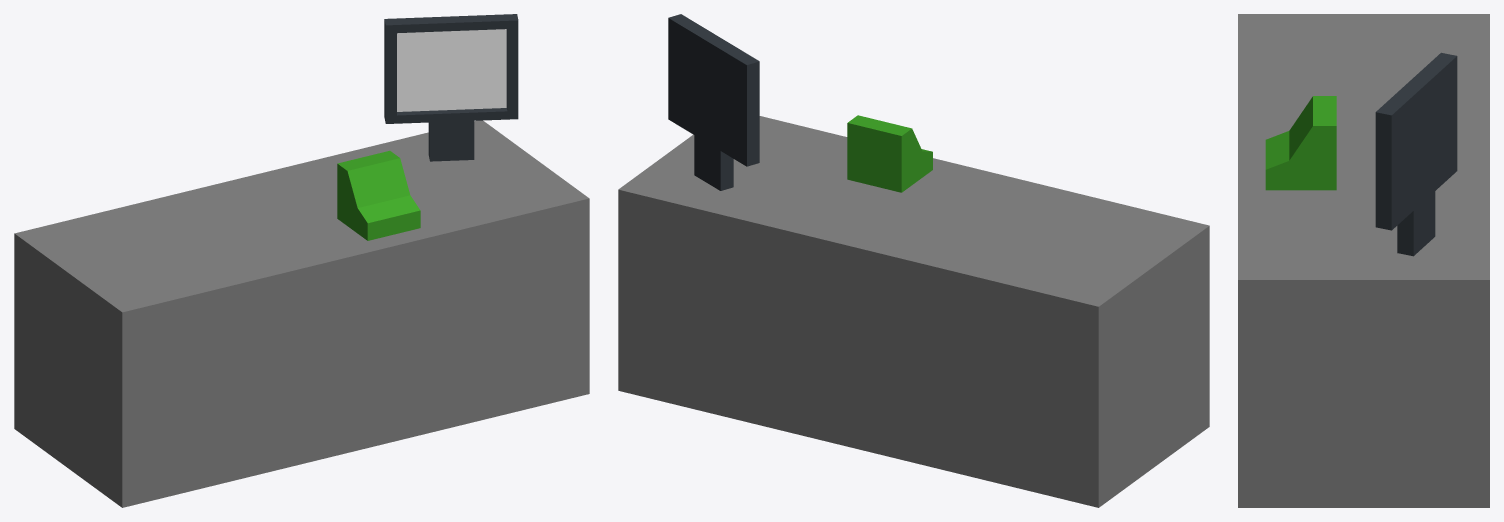
File: cashiertable.fbx
3 views of the same model, side by side, from view 1: azimuth 30°, elevation 25°; view 2: azimuth 150°, elevation 25°; view 3: azimuth 270°, elevation 25° (orthographic). The views are drawn at different scales.
Visible parts, largest first — view 1: CashierTable; view 2: CashierTable; view 3: CashierTable.
Boxes of the visible parts, left/top/right/bottom form: CashierTable: left=14, top=14, right=589, bottom=507; CashierTable: left=618, top=14, right=1209, bottom=507; CashierTable: left=1238, top=14, right=1489, bottom=507.
Size of the model in its own units: 250 by 170 by 100.
